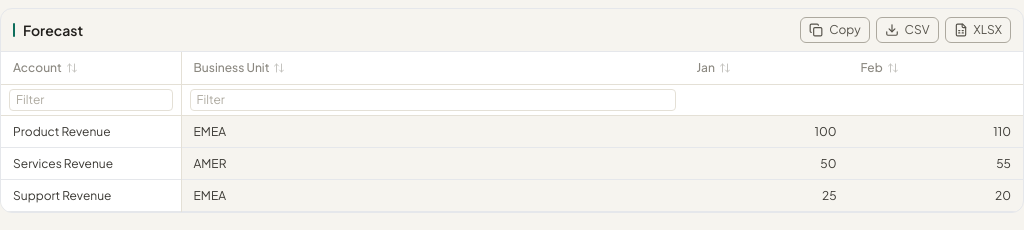
Test: DataTable per-column filters and cell navigation (plan 4.3) › filters by column, combining columns
The width and height of the screenshot is (1024, 230).
Type "emea" into the field named "Filter: Business Unit" at x=433, y=100, box [190,89,676,111]
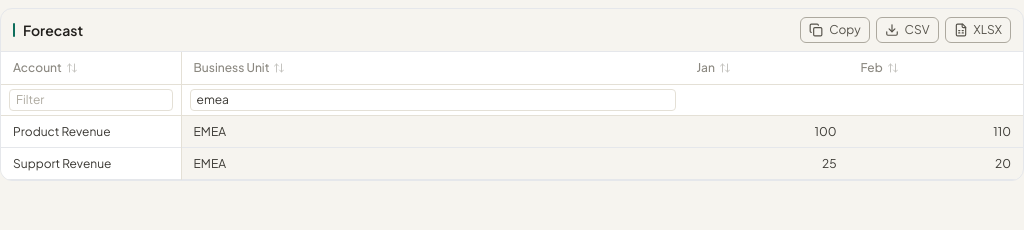
Expected: the text "Product Revenue" is shown, [13,124,111,138]
Now the text "Services Revenue" is gone
Type "support" into the field named "Filter: Account" at x=91, y=100, box [9,89,172,111]
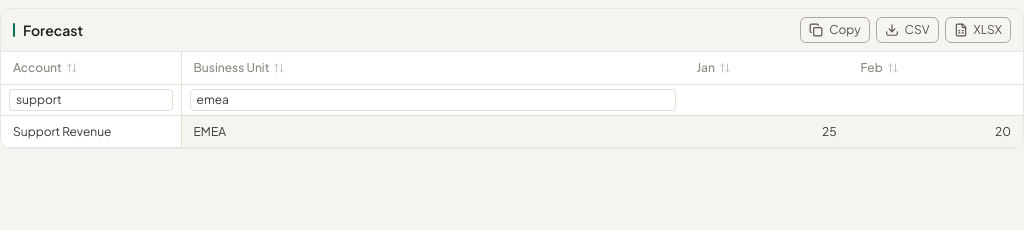
Expected: the text "Support Revenue" is shown, [13,124,111,138]
Now the text "Product Revenue" is gone
